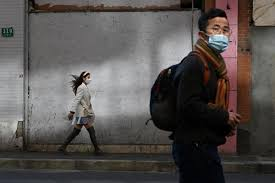mask: (206, 16, 232, 50), (81, 72, 90, 85)
